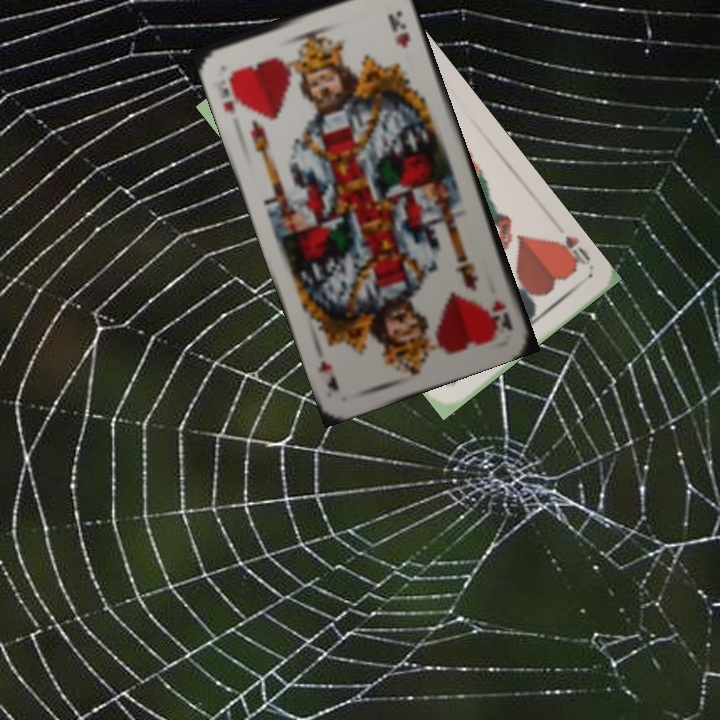HK: (218, 67, 246, 118), (487, 296, 516, 333)
HO: (548, 231, 593, 274)
